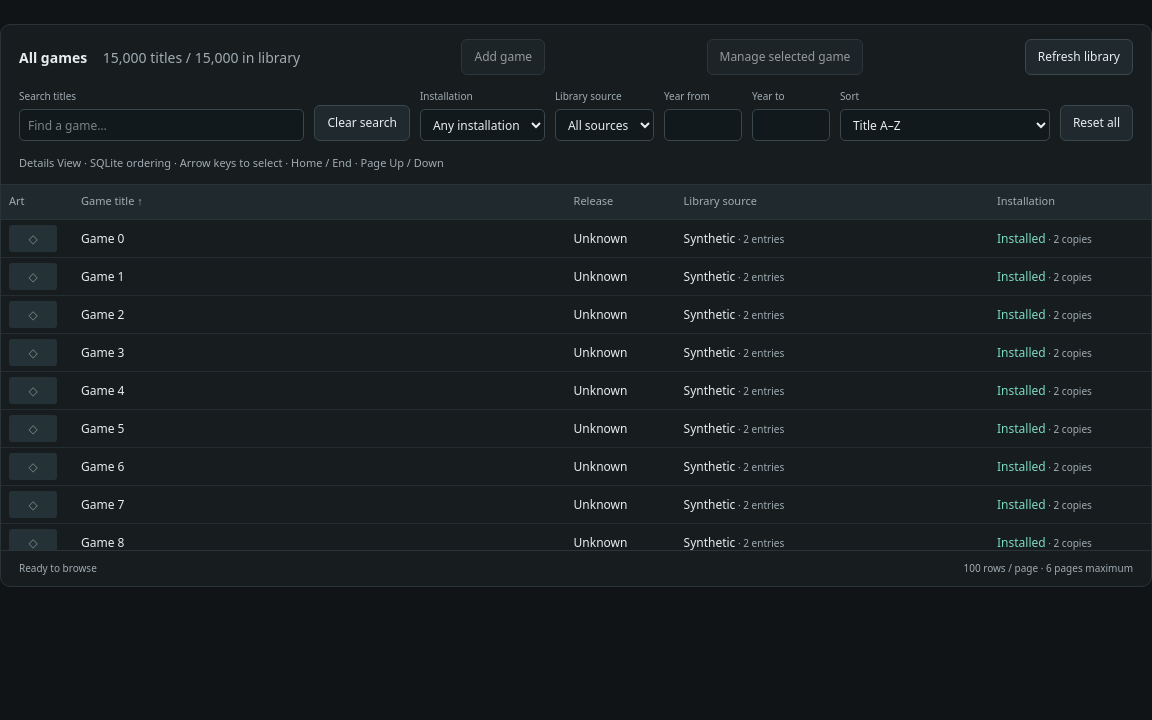
Scenario: Details View › mounts only the viewport plus overscan and navigates to the final canonical game
Click the text "Game 0" at (103, 238), box [81,229,124,246]
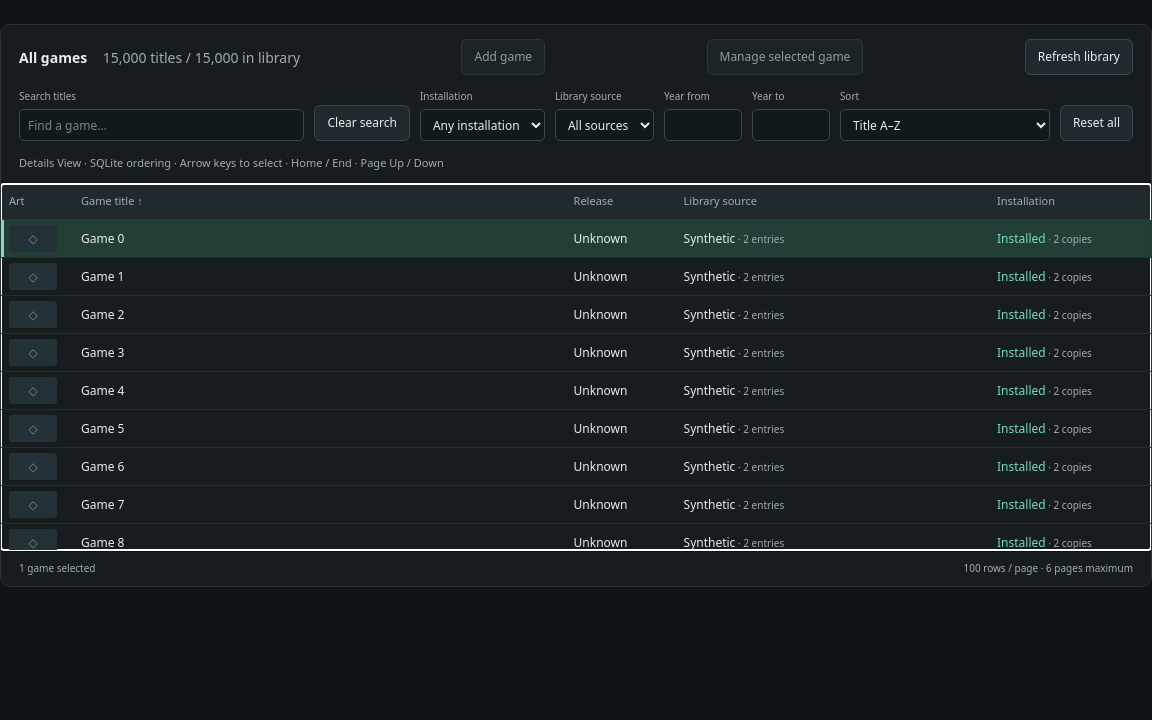
Press End in the element named "Library rows", box [1,220,1151,550]
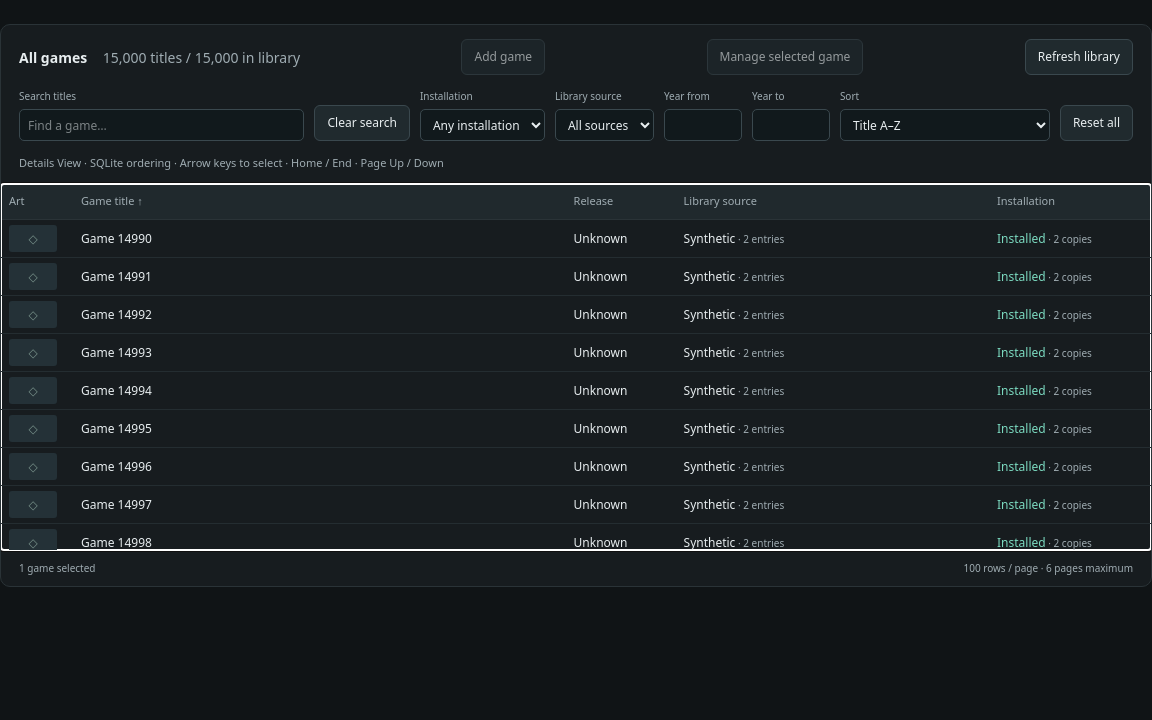
Press ArrowUp in the element named "Library rows", box [1,220,1151,550]
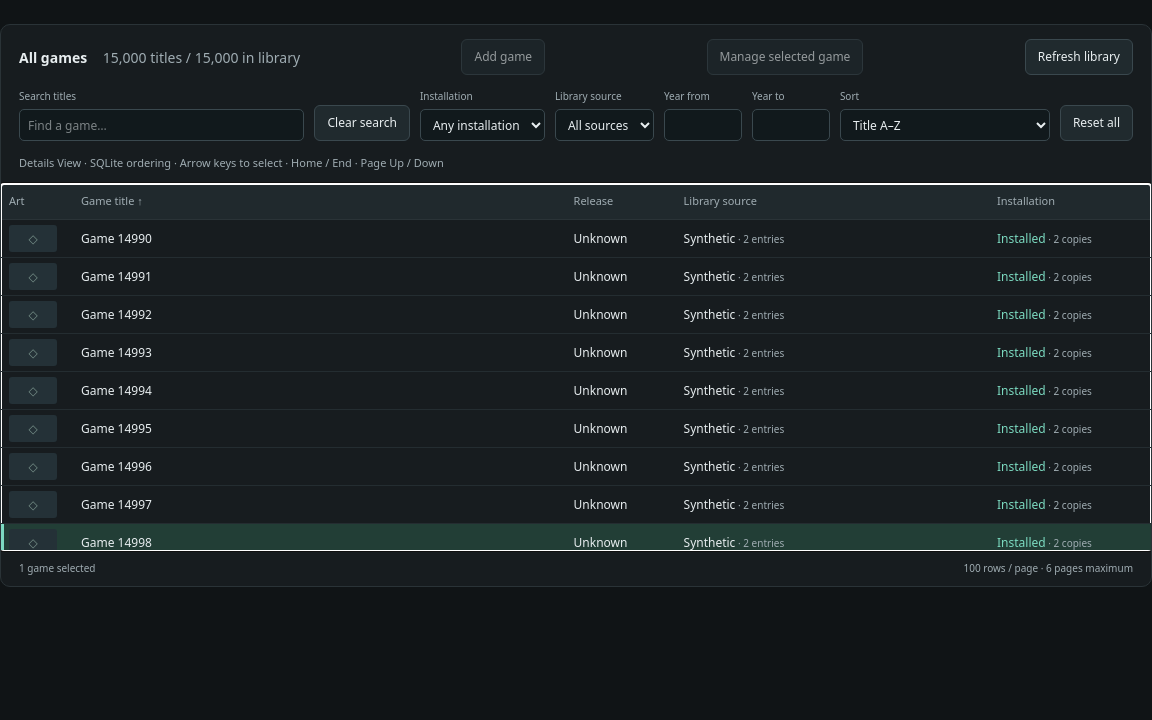
Press Home in the element named "Library rows", box [1,220,1151,550]
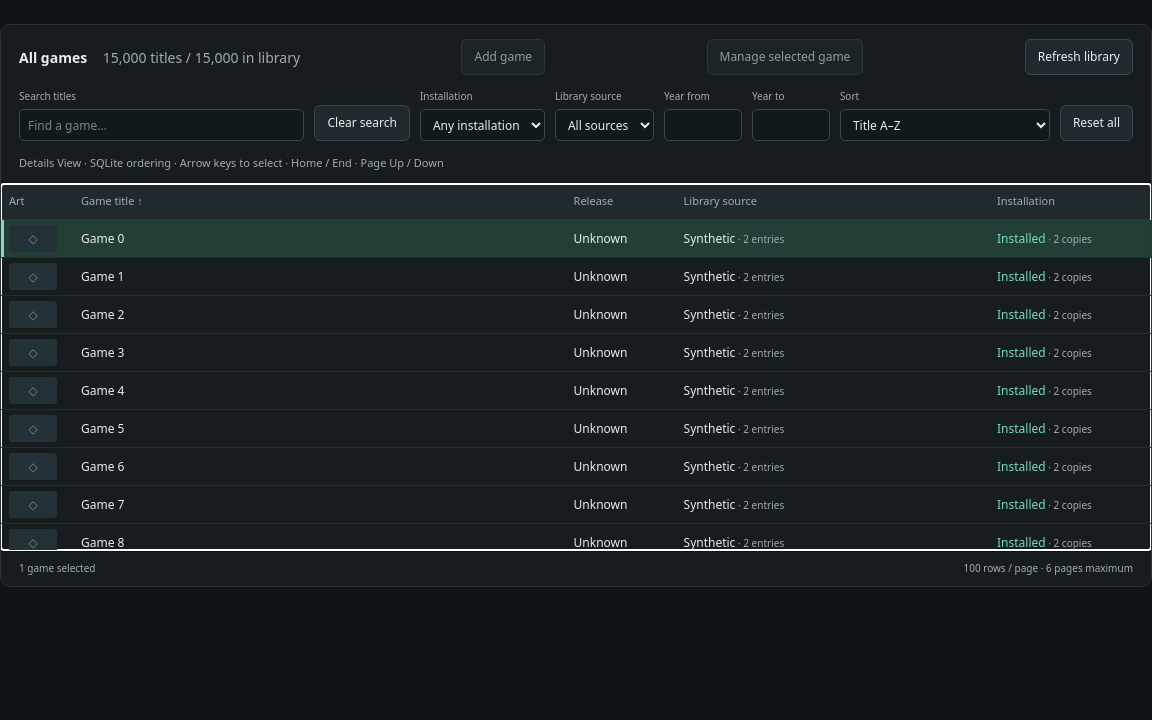
Expected: the text "Game 0" is shown, [81,229,124,246]
